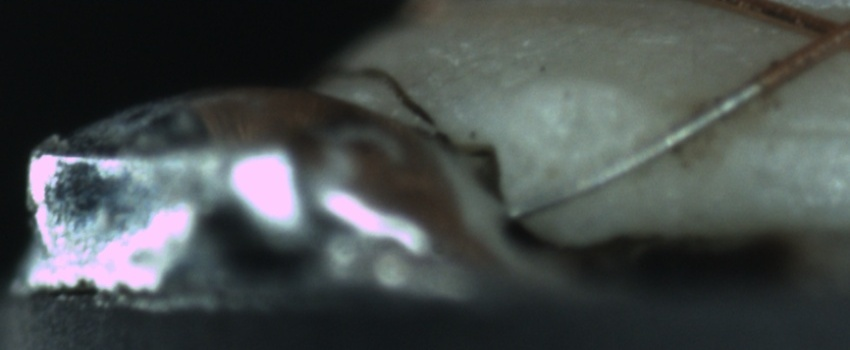CL: (791, 5, 849, 63)
DL: (697, 99, 850, 163)
TS: (503, 81, 761, 220)
